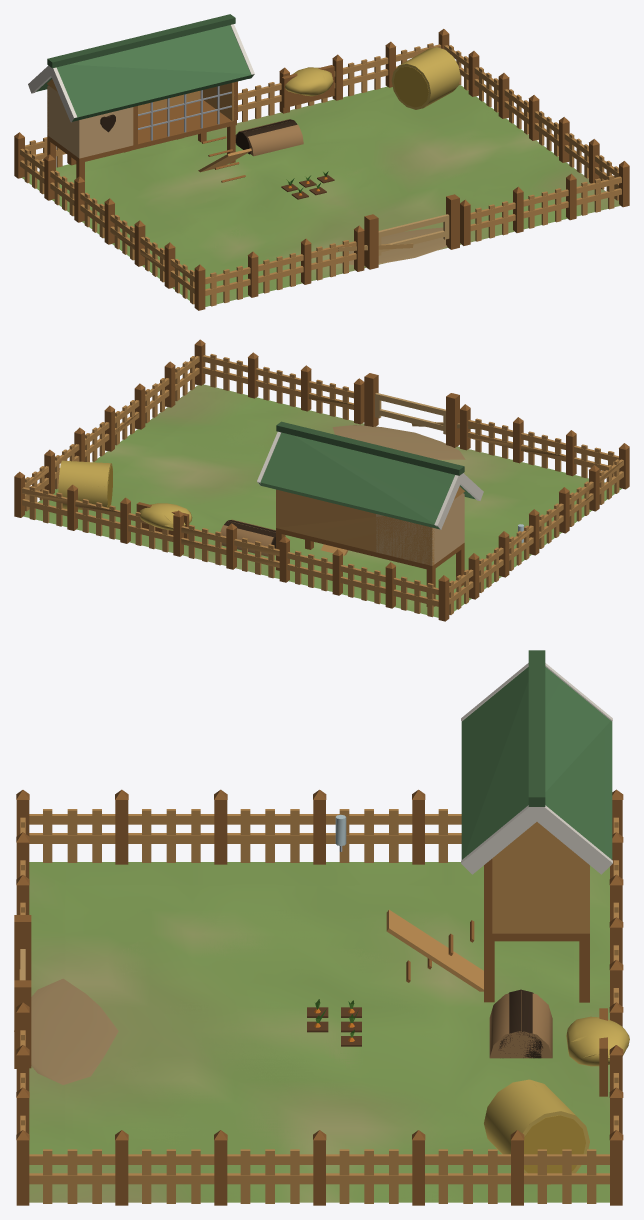
File: hutch-g1.glb
The picture shows the model from 3 angles, top to bottom: view 1: azimuth 30°, elevation 25°; view 2: azimuth 150°, elevation 25°; view 3: azimuth 270°, elevation 25°; orthographic projection. The views are drawn at different scales.
Visible parts, largest first — view 1: home-hutch-g1, home-hutch-g1-far; view 2: home-hutch-g1, home-hutch-g1-far; view 3: home-hutch-g1, home-hutch-g1-far.
Part boxes in pixels (bbox=[...]): home-hutch-g1: bbox=[14, 14, 629, 310]; home-hutch-g1-far: bbox=[14, 15, 624, 307]; home-hutch-g1: bbox=[21, 341, 628, 617]; home-hutch-g1-far: bbox=[14, 339, 629, 621]; home-hutch-g1: bbox=[14, 650, 629, 1205]; home-hutch-g1-far: bbox=[14, 650, 623, 1205].
Bounding box in the file's own units: 7.73 × 2.56 × 5.81.
